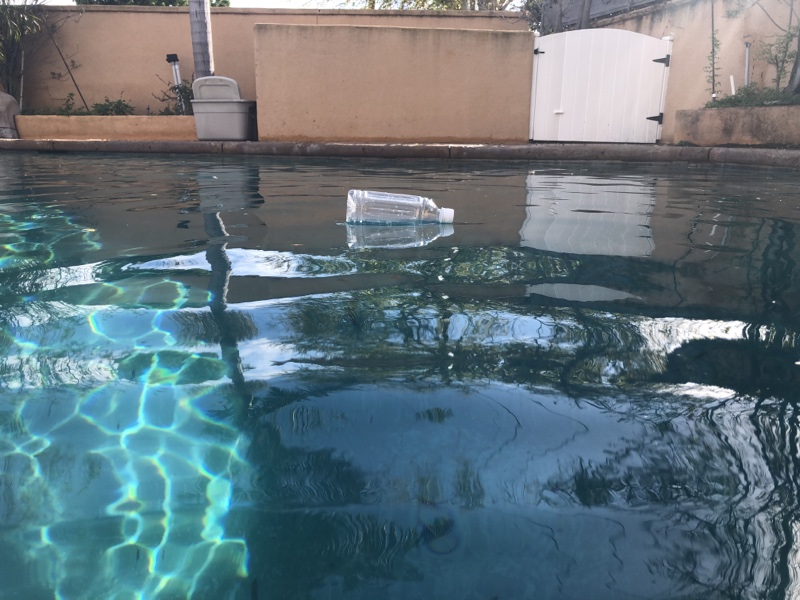Plastic Bottle: (342, 182, 458, 234)
